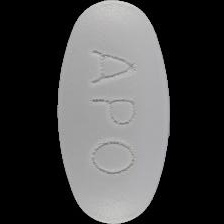61919-155: (0, 0, 224, 224)
